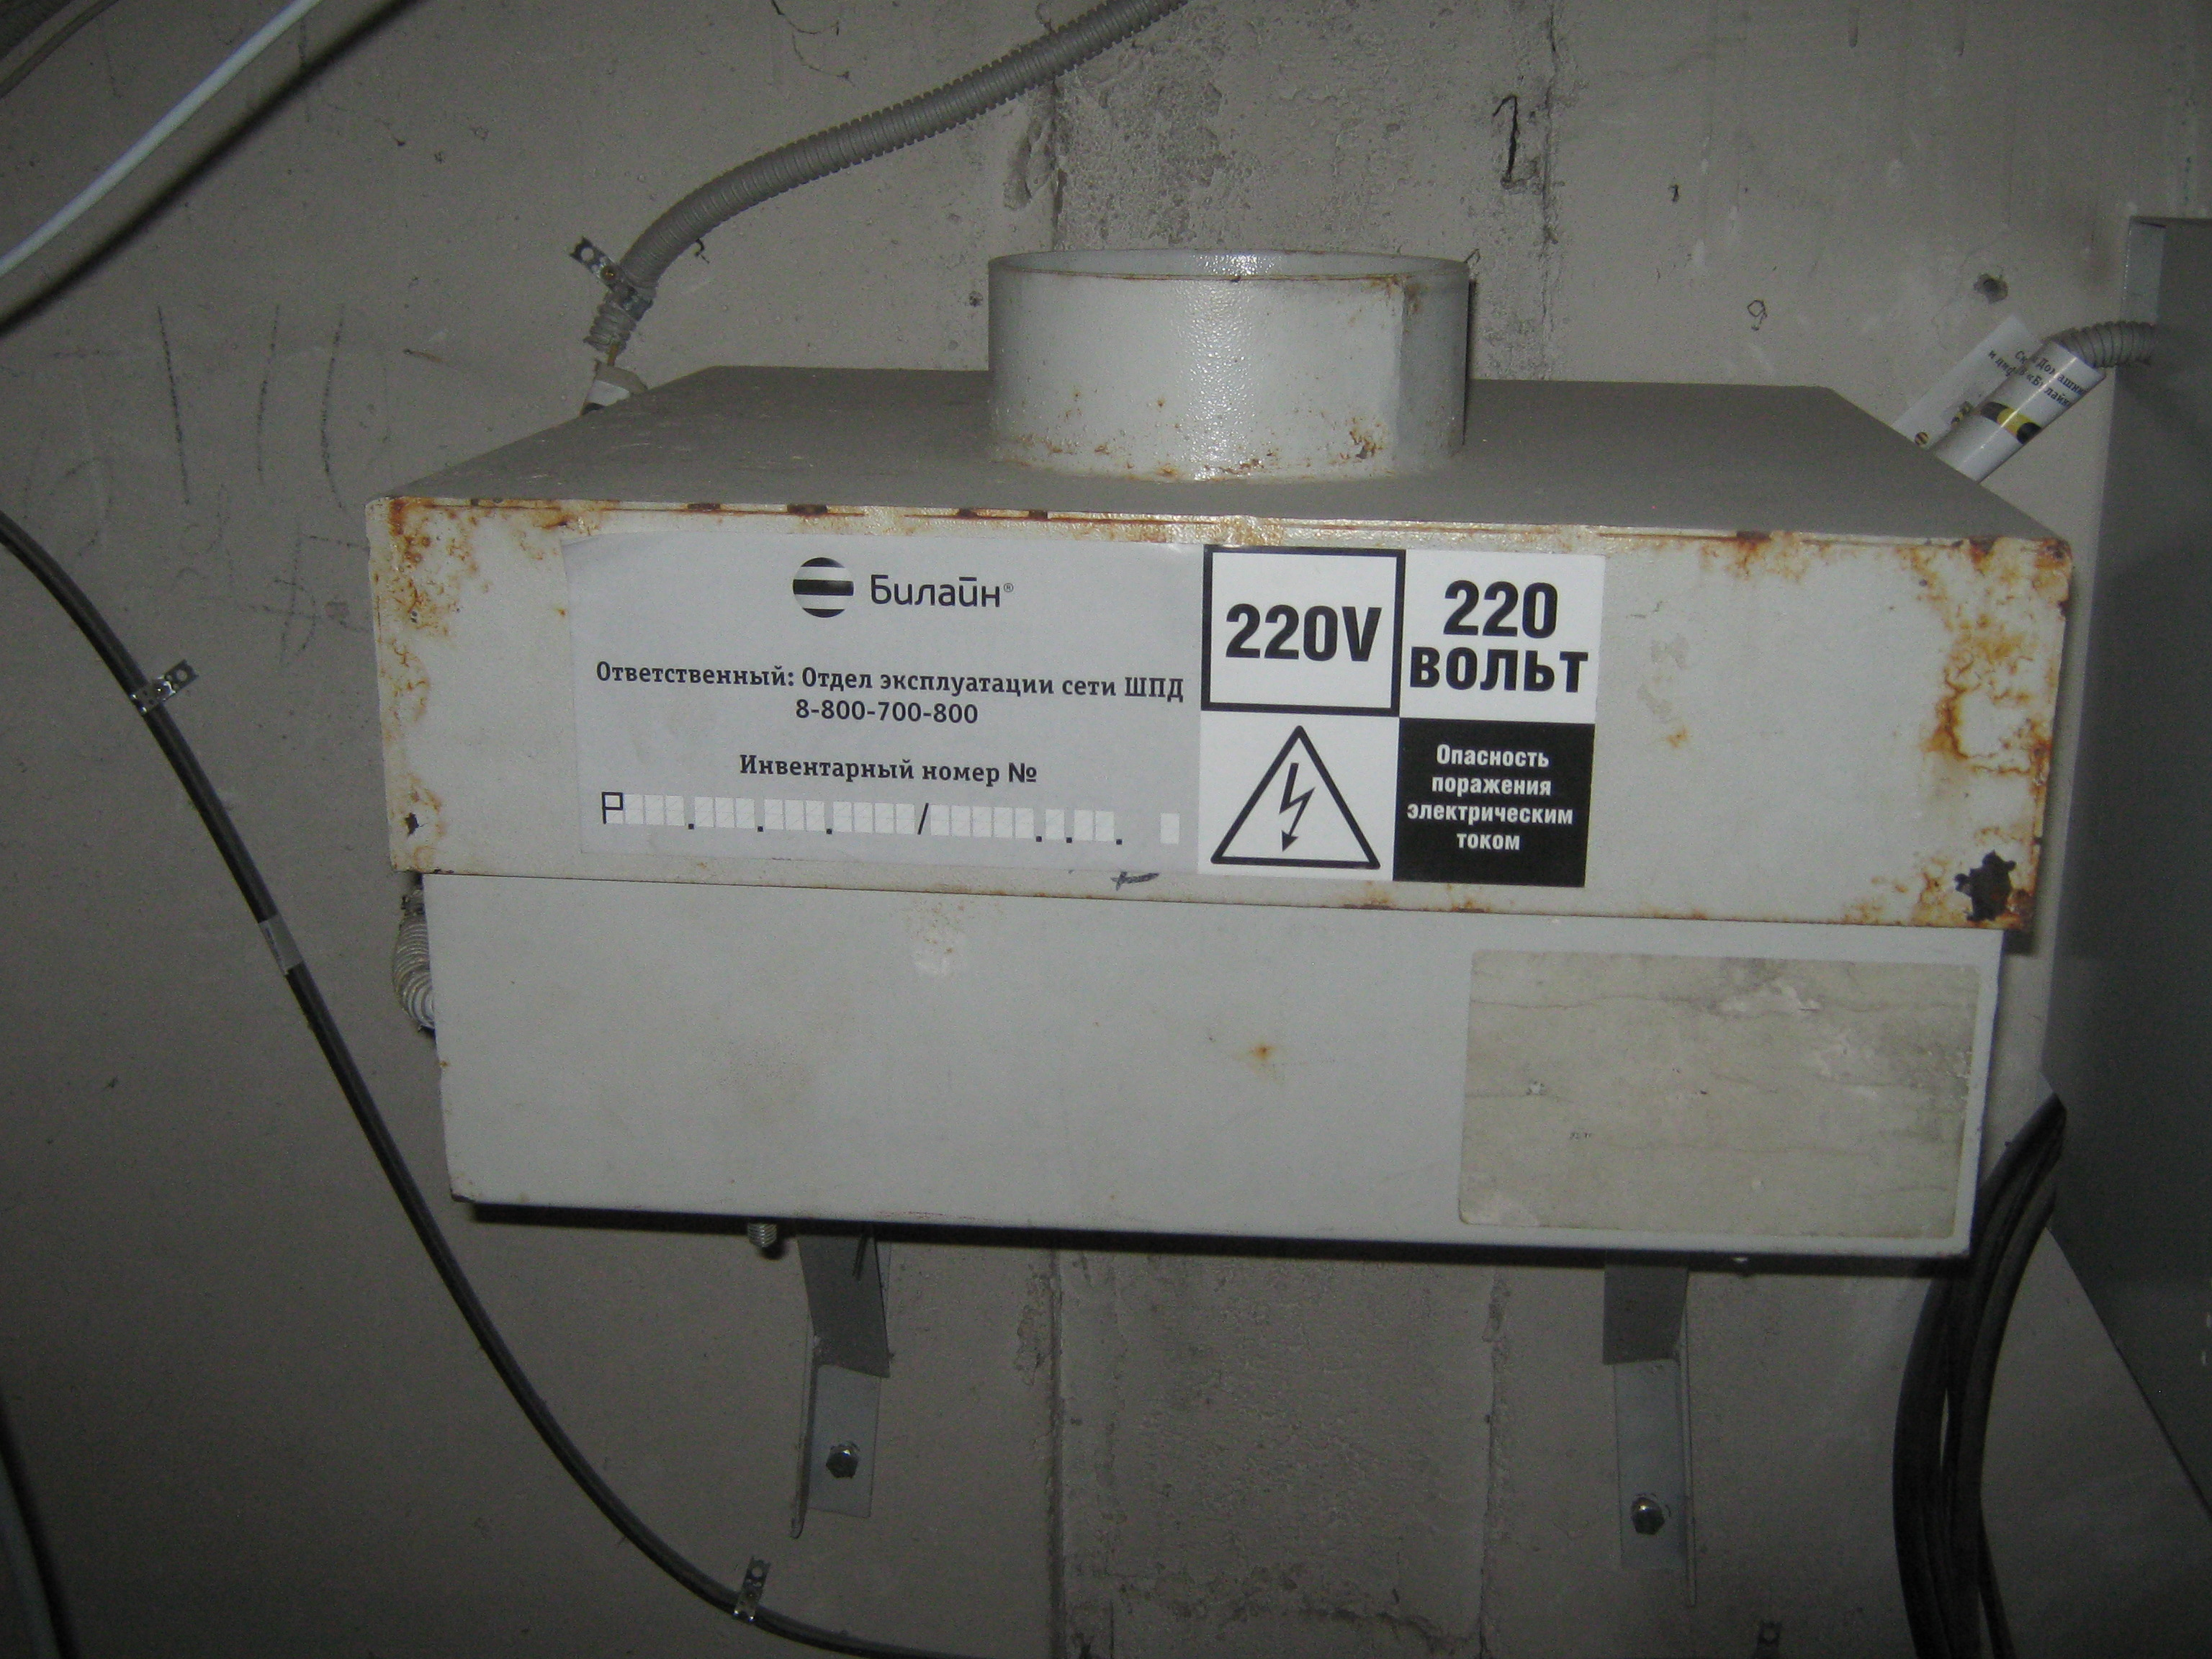shta-ps: (341, 237, 2092, 1284)
